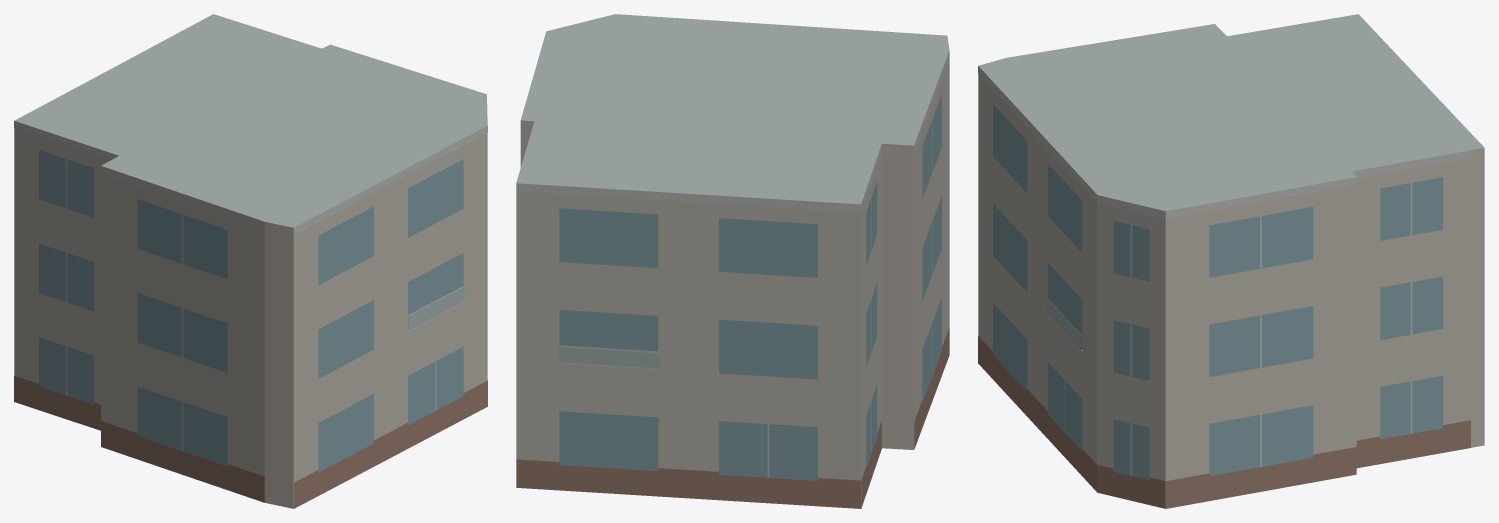
Rendered from survey-upis-32709395.glb.
3 renders of one model, left to right at view 1: azimuth 30°, elevation 25°; view 2: azimuth 150°, elevation 25°; view 3: azimuth 270°, elevation 25°, orthographic. The views are drawn at different scales.
Visible parts, largest first — view 1: survey-upis-32709395.tmp; view 2: survey-upis-32709395.tmp; view 3: survey-upis-32709395.tmp.
Part boxes in pixels (x1,y1,x2,y2): survey-upis-32709395.tmp: (14, 14, 487, 508); survey-upis-32709395.tmp: (516, 14, 949, 508); survey-upis-32709395.tmp: (978, 14, 1484, 508).
Bounding box in the file's own units: 13.01 × 9.15 × 14.12.
